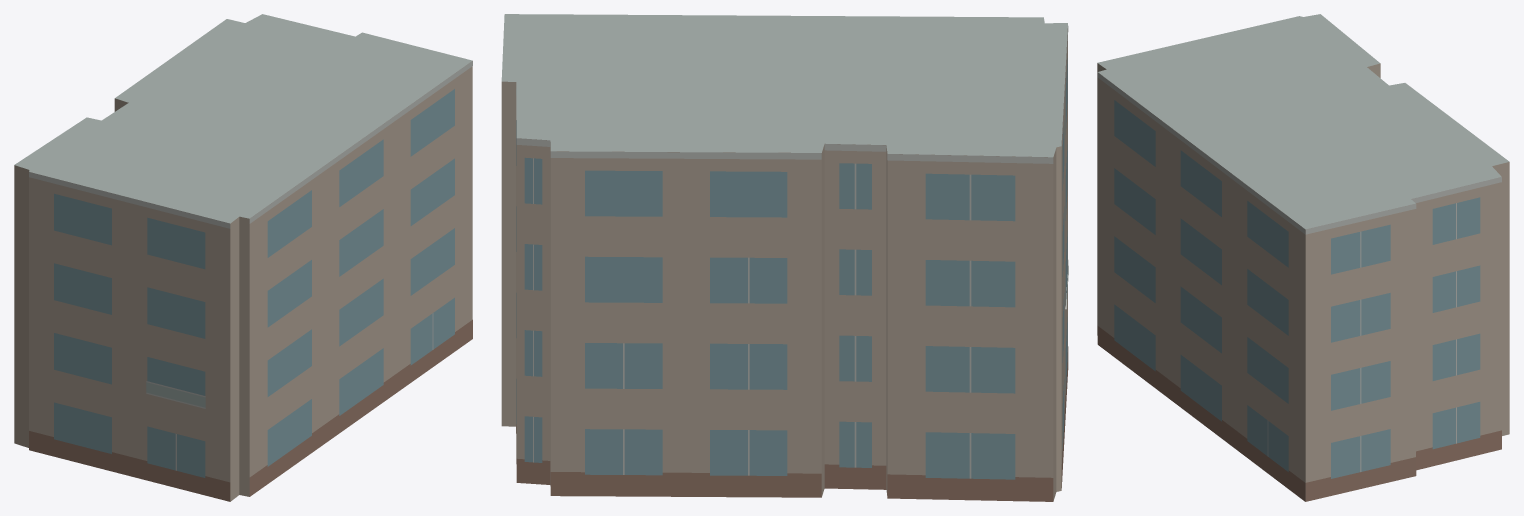
File: survey-upis-32637798.glb
3 renders of one model, left to right at view 1: azimuth 30°, elevation 25°; view 2: azimuth 150°, elevation 25°; view 3: azimuth 270°, elevation 25°, orthographic. The views are drawn at different scales.
Parts seen in each view (by area): view 1: survey-upis-32637798.tmp; view 2: survey-upis-32637798.tmp; view 3: survey-upis-32637798.tmp.
Boxes of the visible parts, bbox=[...] form: survey-upis-32637798.tmp: bbox=[14, 14, 472, 501]; survey-upis-32637798.tmp: bbox=[501, 14, 1068, 501]; survey-upis-32637798.tmp: bbox=[1097, 14, 1509, 501].
Bounding box in the file's own units: 21.37 × 12.6 × 17.3.
